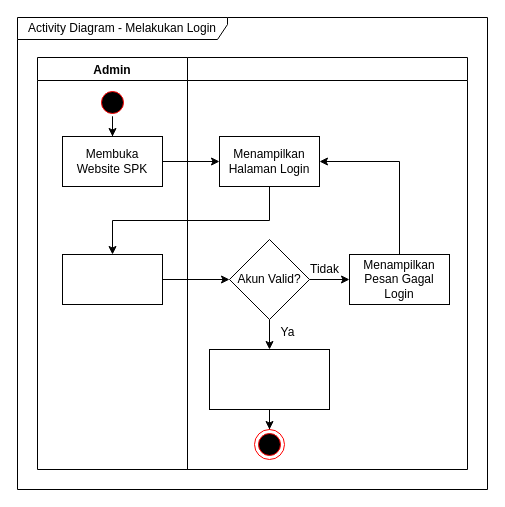
The diagram is 505 pixels wide and 507 high, and some of its shapes have lost their labels. The box of each missing label's shape, as (x1, y1, x2, y2) in pixels:
Menampilkan Halaman Dashboard: (208, 348, 330, 410)
Mengisi Username & Password: (62, 254, 162, 304)
Sistem: (186, 56, 468, 470)
